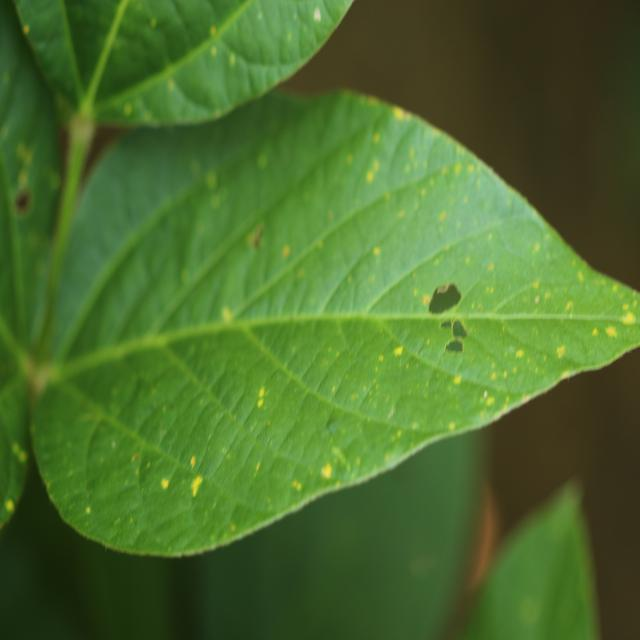Soybean: (0, 0, 640, 640)
downey_mildew: (233, 149, 412, 291), (335, 336, 475, 429), (381, 173, 493, 278), (504, 269, 626, 360), (185, 378, 265, 488), (236, 360, 321, 462), (82, 398, 156, 515), (381, 135, 470, 216), (220, 207, 296, 298), (127, 443, 206, 521), (177, 148, 248, 234), (482, 334, 548, 389), (1, 437, 30, 521), (13, 140, 38, 217), (16, 142, 33, 165), (365, 158, 380, 183), (12, 442, 26, 462), (205, 171, 217, 190), (222, 305, 234, 323), (394, 107, 408, 121), (258, 154, 268, 169), (51, 173, 61, 188), (556, 345, 565, 359), (123, 103, 132, 115), (515, 349, 524, 359), (565, 301, 573, 312), (229, 54, 236, 65), (577, 271, 584, 282), (373, 133, 380, 144), (467, 164, 475, 173), (257, 398, 264, 408), (258, 387, 265, 397), (455, 164, 461, 175), (211, 46, 217, 56), (613, 284, 619, 292), (490, 372, 496, 380), (378, 355, 384, 363), (502, 371, 507, 378)
